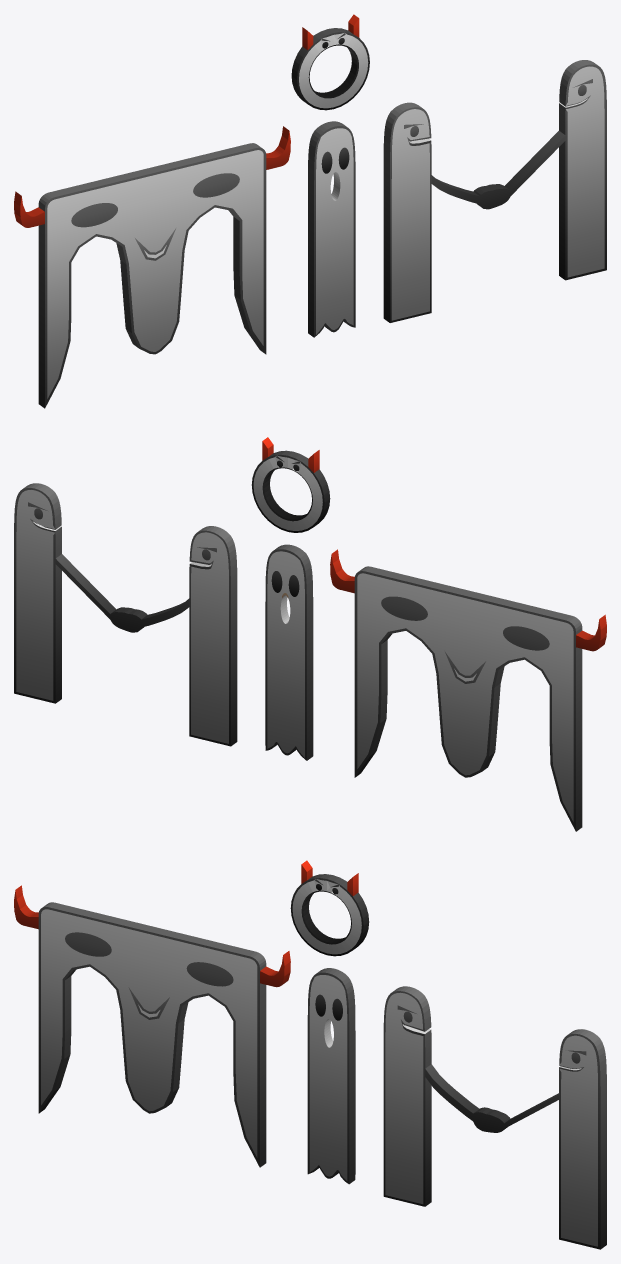
Rendered from mim.glb.
3 views of the same model, one above another, from view 1: azimuth 30°, elevation 25°; view 2: azimuth 150°, elevation 25°; view 3: azimuth 330°, elevation 25° (orthographic).
Parts seen in each view (by area): view 1: Plane.004, Plane.001, Plane, Circle.002; view 2: Plane.004, Plane.001, Plane, Circle.002; view 3: Plane.004, Plane.001, Plane, Circle.002.
Part boxes in pixels (x1,y1,x2,y2): Plane.004: (14, 126, 290, 408); Plane.001: (383, 60, 606, 322); Plane: (308, 121, 355, 337); Circle.002: (291, 14, 369, 110); Plane.004: (330, 549, 606, 831); Plane.001: (14, 483, 237, 746); Plane: (265, 544, 313, 760); Circle.002: (251, 437, 330, 532); Plane.004: (14, 885, 290, 1167); Plane.001: (383, 986, 606, 1249); Plane: (307, 968, 355, 1184); Circle.002: (290, 860, 369, 956).
Size of the model in its own units: 16.11 by 8.23 by 0.3242.
1 material, 1 textured.
